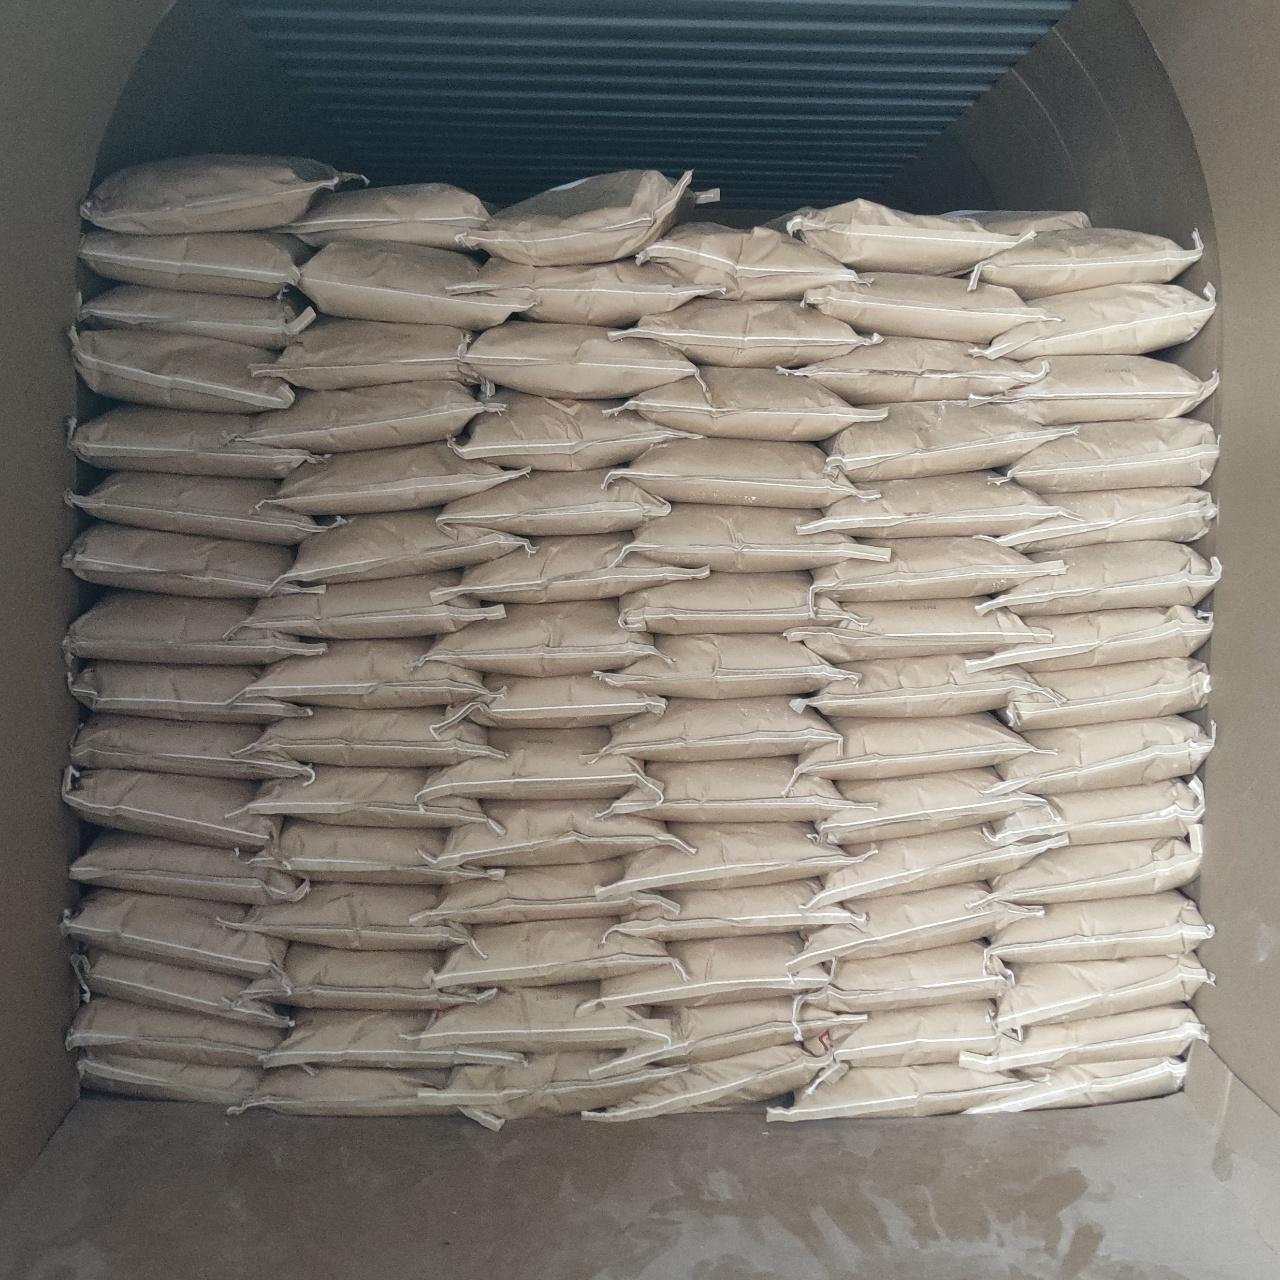sack: (82, 156, 365, 230), (467, 170, 690, 263), (792, 884, 1042, 964), (454, 390, 700, 470), (826, 400, 1068, 481), (64, 888, 286, 976), (600, 998, 864, 1070), (622, 366, 884, 438), (62, 590, 324, 662), (583, 1046, 844, 1118), (300, 241, 524, 326), (68, 472, 340, 542), (760, 200, 1030, 270), (72, 404, 324, 478), (72, 328, 292, 411), (272, 442, 524, 515), (816, 826, 1056, 903), (464, 320, 694, 399), (418, 1051, 679, 1121), (280, 510, 526, 583), (227, 1065, 504, 1130), (456, 258, 716, 326), (978, 284, 1214, 358), (246, 382, 493, 452), (778, 338, 1046, 402), (76, 948, 292, 1028), (62, 768, 278, 847), (62, 522, 294, 595), (70, 830, 306, 903), (612, 300, 872, 366), (241, 572, 502, 638), (456, 532, 706, 600), (236, 765, 498, 830), (594, 934, 830, 1006), (968, 229, 1203, 300), (804, 274, 1050, 342), (614, 438, 856, 508), (983, 544, 1220, 614), (796, 714, 1040, 782), (424, 982, 663, 1051), (996, 954, 1212, 1030), (968, 356, 1218, 422), (434, 918, 666, 988), (416, 860, 674, 924), (784, 598, 1044, 660), (1000, 716, 1212, 792), (224, 884, 470, 949), (246, 821, 501, 884), (636, 224, 855, 298), (425, 600, 654, 670), (816, 770, 1040, 842), (418, 728, 646, 798), (799, 472, 1051, 536), (629, 504, 884, 566), (263, 1010, 526, 1070), (988, 892, 1212, 962), (968, 606, 1212, 670), (438, 799, 682, 864), (1000, 418, 1218, 490), (256, 316, 474, 388), (241, 944, 492, 1006), (962, 1006, 1204, 1070), (618, 824, 855, 890), (608, 758, 852, 822), (70, 714, 309, 778), (80, 284, 316, 348), (608, 880, 862, 940), (1002, 658, 1210, 730), (796, 942, 1014, 1012), (248, 638, 482, 702), (68, 660, 309, 722), (813, 538, 1062, 598), (80, 230, 309, 294), (986, 778, 1201, 846), (799, 656, 1044, 716), (440, 470, 666, 535), (68, 996, 282, 1064), (606, 634, 846, 694), (604, 697, 838, 758), (250, 708, 498, 765), (992, 488, 1214, 550), (992, 836, 1198, 903), (770, 1064, 1026, 1118), (286, 184, 490, 248), (808, 1002, 1017, 1064), (620, 572, 846, 629), (436, 674, 662, 726), (971, 1058, 1186, 1110), (79, 1050, 260, 1102)
